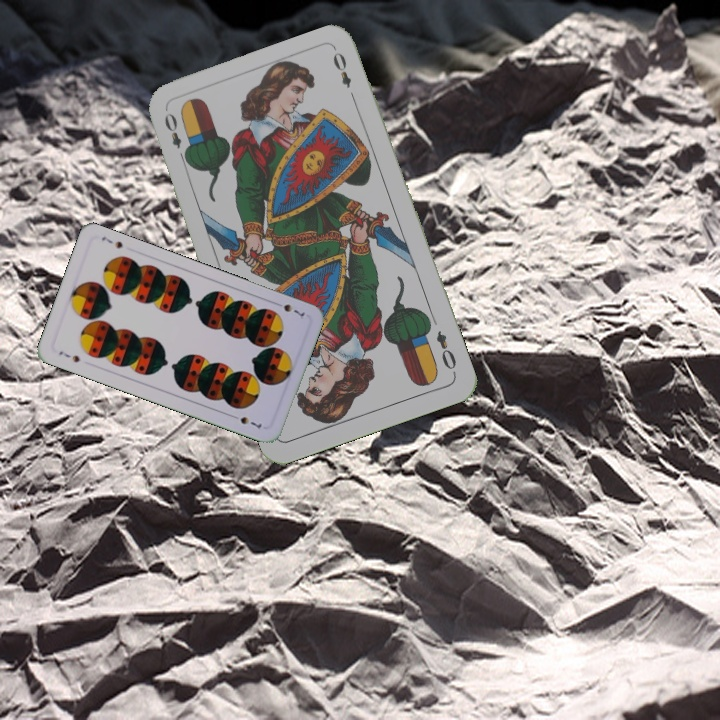EO: (160, 109, 190, 165), (432, 326, 459, 373)
S7: (270, 298, 307, 319), (55, 347, 82, 365)
